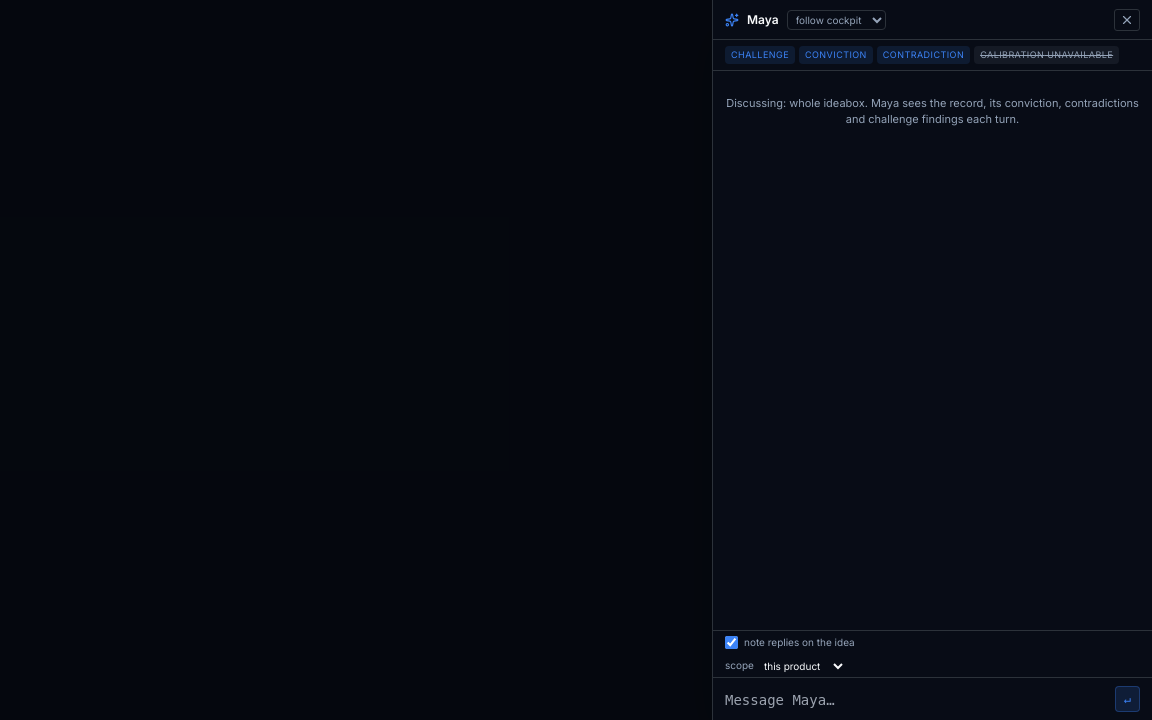
Test: conversation flow › pre-flight JSON auth error → auth funnel with the two explicit continuity-costing actions
In the text box with placeholder "Message Maya…": (916, 701) [725, 689, 1107, 712], type "hi"
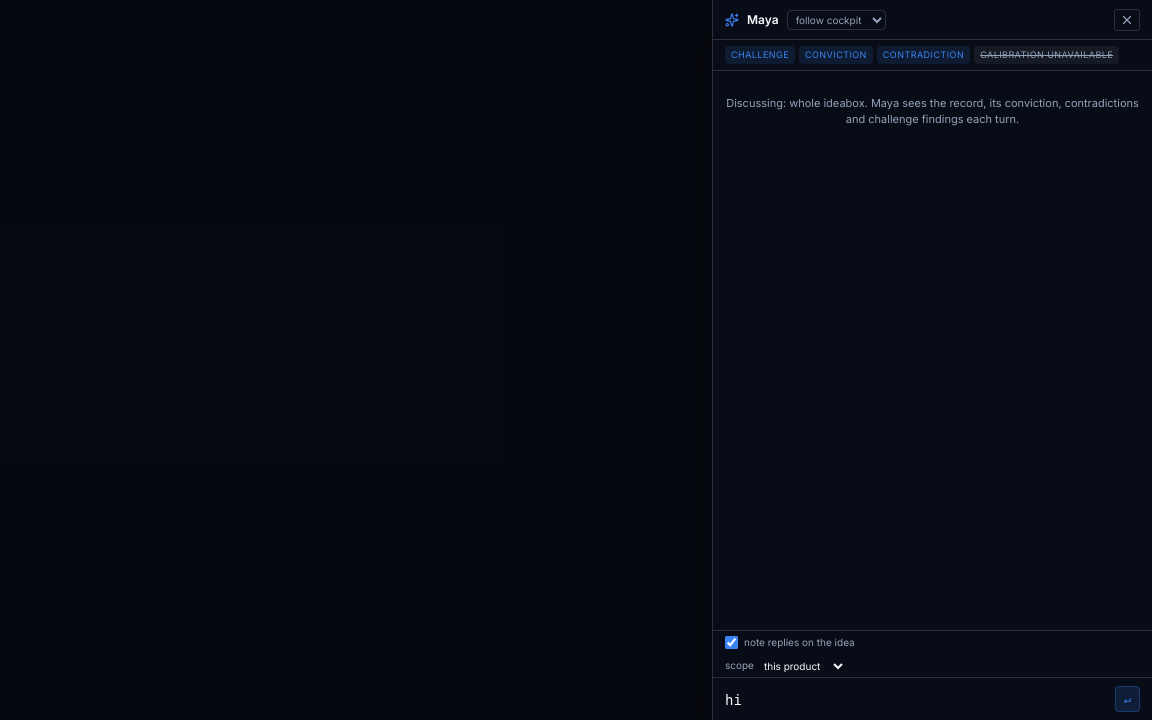
Press Enter in the text box, box [725, 689, 1107, 712]
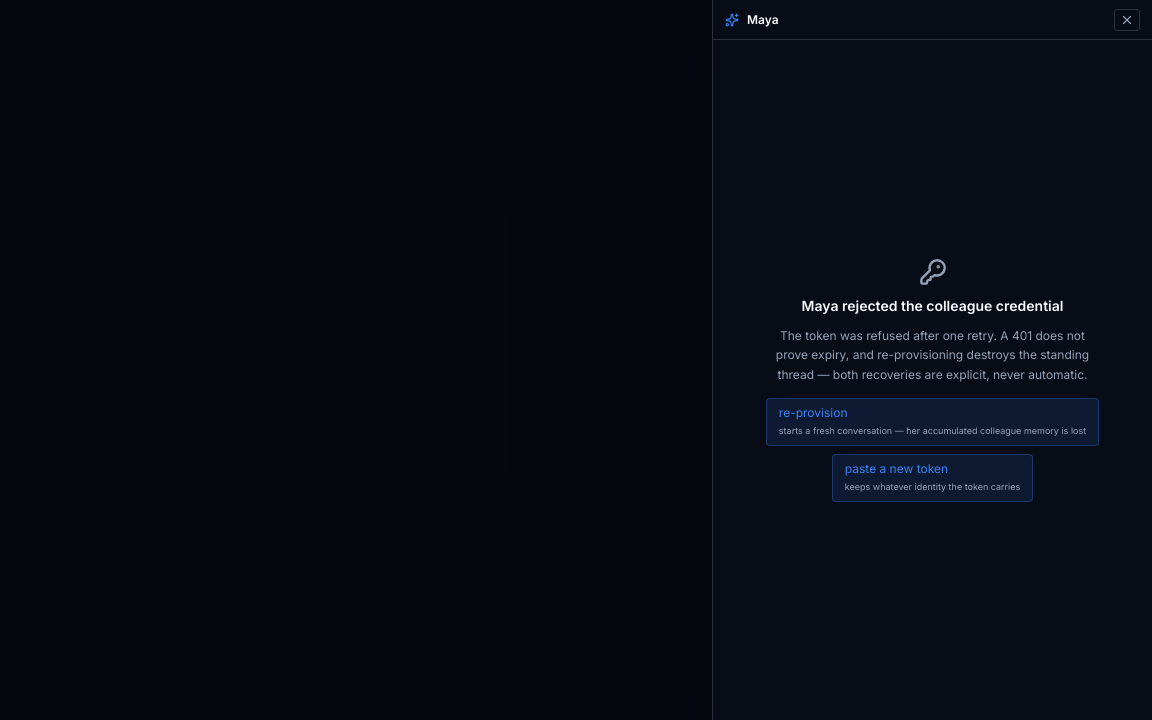
Expected: the button "re-provision" is shown, [766, 398, 1099, 446]
Expected: the text "starts a fresh conversation" is shown, [779, 425, 1086, 436]
Expected: the button "paste a new token keeps whatever identity the token carries" is shown, [832, 454, 1033, 502]
